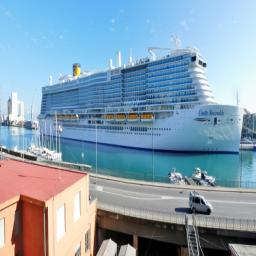cruises: (39, 33, 246, 159)
